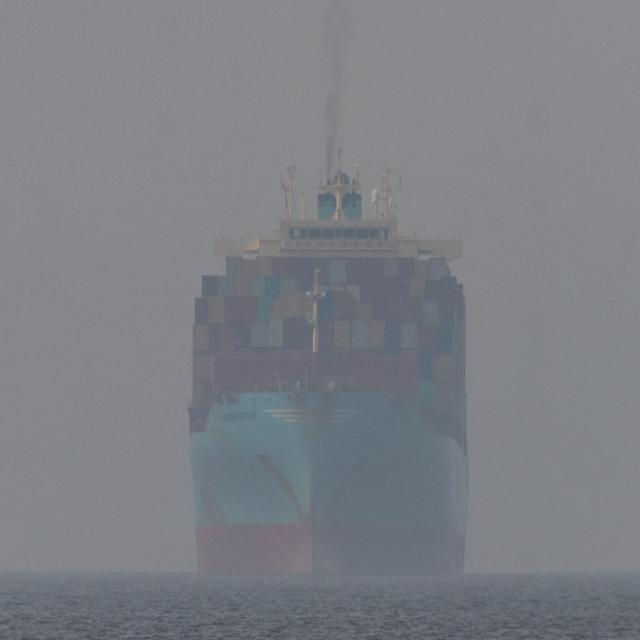cargoship: (180, 156, 480, 579)
